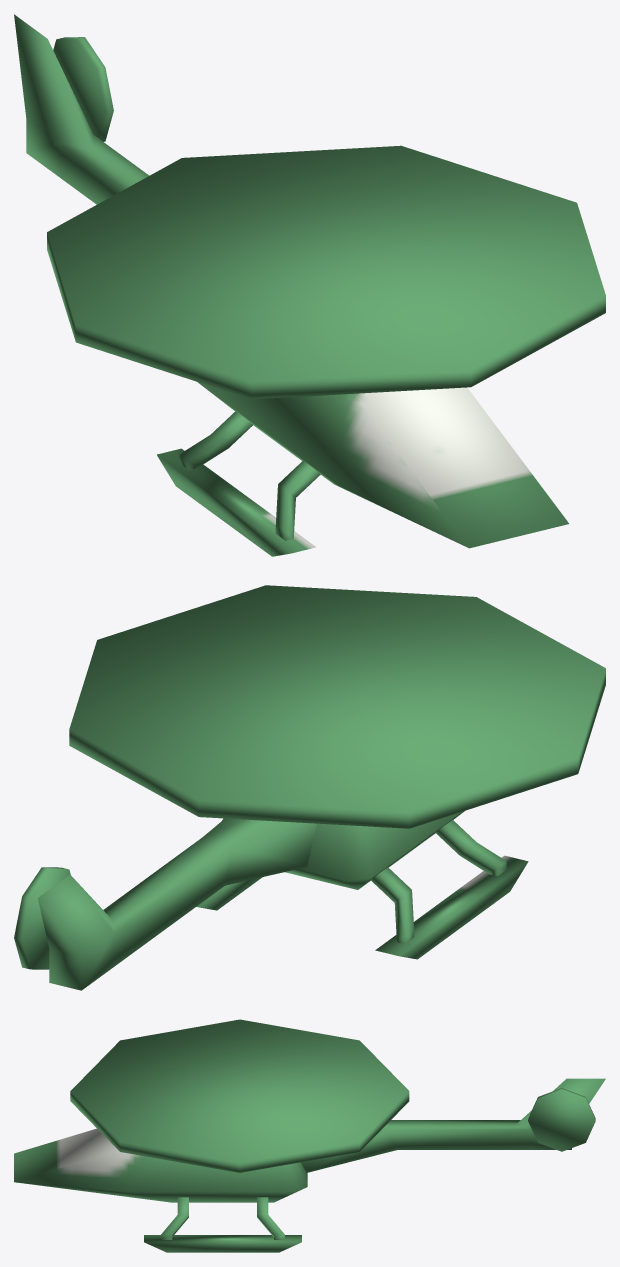
File: mook_chopper.fbx
The picture shows the model from 3 angles, top to bottom: view 1: azimuth 30°, elevation 25°; view 2: azimuth 150°, elevation 25°; view 3: azimuth 270°, elevation 25°; orthographic projection. The views are drawn at different scales.
Parts seen in each view (by area): view 1: mook_chopper; view 2: mook_chopper; view 3: mook_chopper.
Part boxes in pixels (x1=…): mook_chopper: x1=14, y1=14, x2=605, y2=556; mook_chopper: x1=14, y1=585, x2=605, y2=990; mook_chopper: x1=14, y1=1019, x2=605, y2=1252.
Bounding box in the file's own units: 6 × 2.74 × 10.48.
